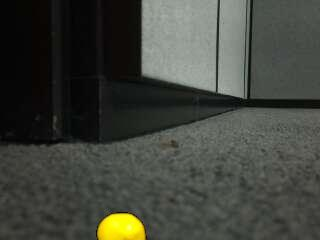Lemon: (95, 212, 145, 240)
